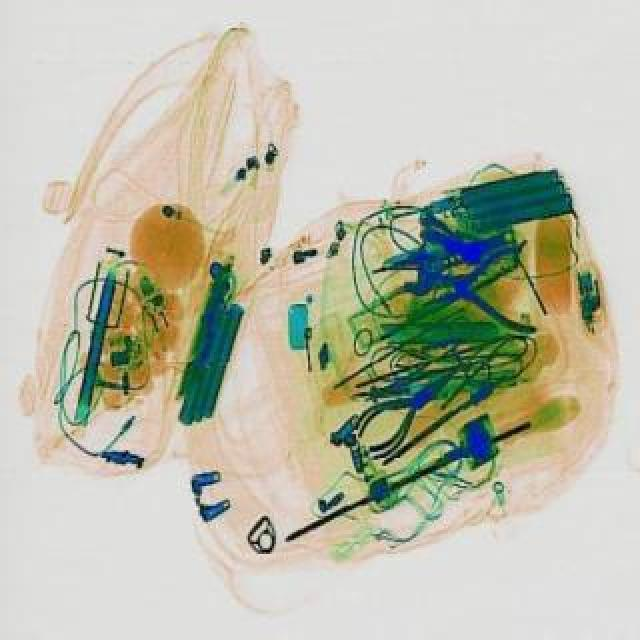scissors: (390, 214, 522, 298)
wrench: (342, 348, 472, 460), (418, 244, 538, 334)
